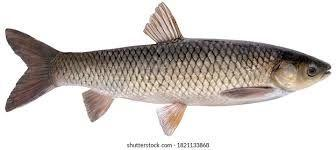Grass Carp: (4, 4, 333, 137)
